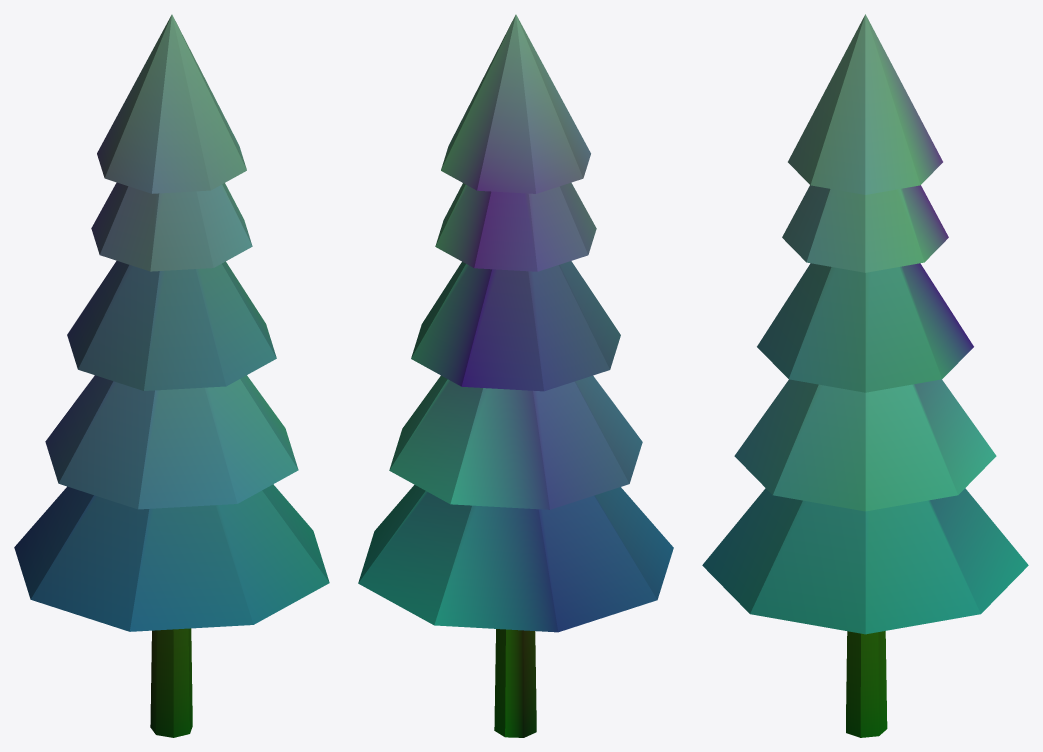
The model's file is conifer_01.glb.
3 views of the same model, side by side, from view 1: azimuth 30°, elevation 25°; view 2: azimuth 150°, elevation 25°; view 3: azimuth 270°, elevation 25° (orthographic).
Visible parts, largest first — view 1: conifer_01; view 2: conifer_01; view 3: conifer_01.
Part boxes in pixels (left/top/right/bottom): conifer_01: left=14, top=14, right=329, bottom=737; conifer_01: left=358, top=14, right=673, bottom=737; conifer_01: left=702, top=14, right=1028, bottom=737.
Bounding box in the file's own units: 2.1 × 5.07 × 2.1.
